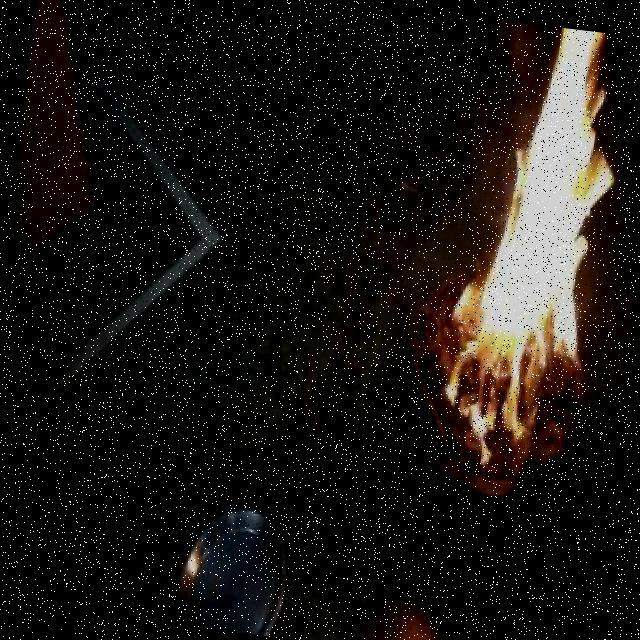Fire: (439, 25, 632, 451)
